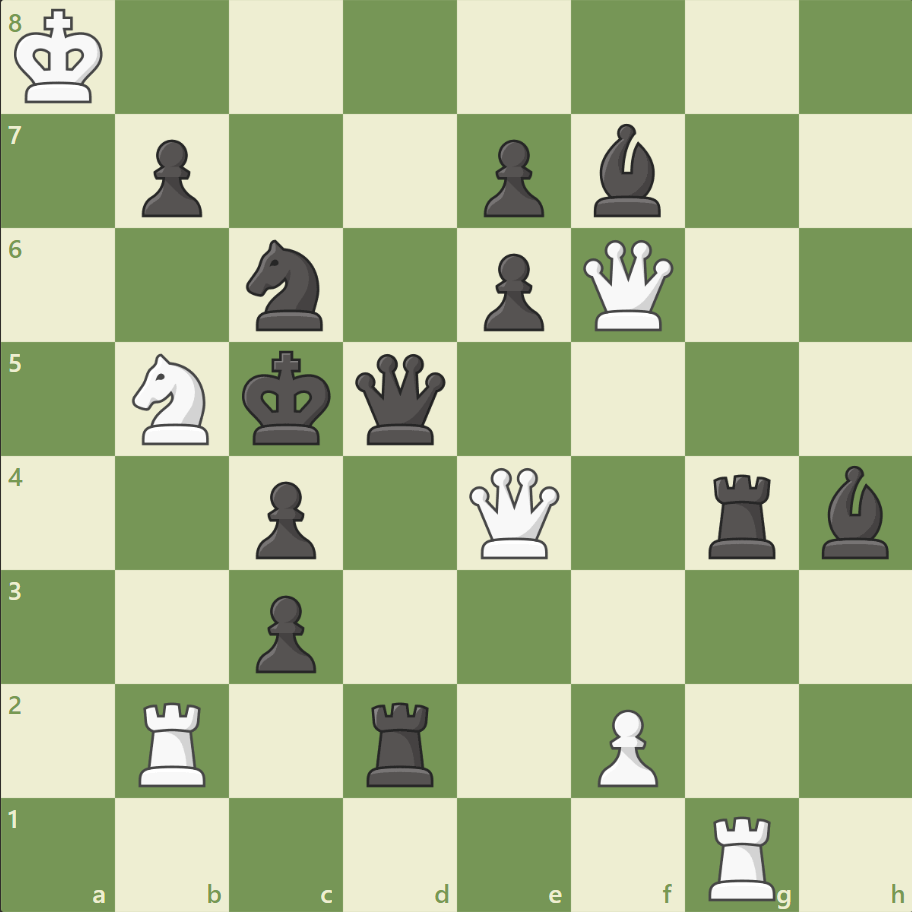K: (11, 4, 111, 112)
N: (124, 348, 222, 450)
P: (588, 700, 662, 791)
Q: (578, 236, 677, 335), (464, 463, 563, 562)
R: (700, 806, 783, 904), (133, 693, 215, 790)
b: (812, 460, 896, 563), (585, 120, 669, 222)
k: (238, 344, 338, 452)
n: (238, 234, 335, 337)
p: (133, 132, 208, 223), (474, 132, 549, 223), (474, 246, 549, 337), (247, 473, 322, 564), (247, 586, 322, 677)
q: (351, 349, 450, 449)
r: (700, 466, 783, 563), (360, 693, 442, 790)
